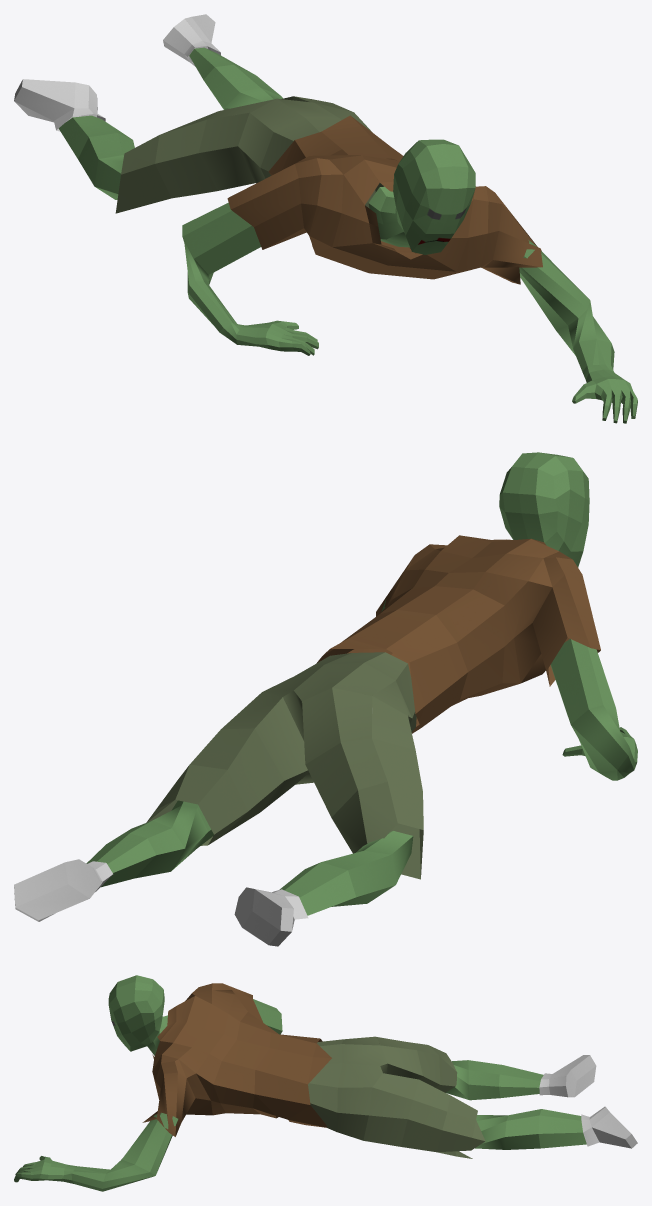
File: ZombieCrawl(123).obj
The picture shows the model from 3 angles, top to bottom: view 1: azimuth 30°, elevation 25°; view 2: azimuth 150°, elevation 25°; view 3: azimuth 270°, elevation 25°; orthographic projection. The views are drawn at different scales.
Visible parts, largest first — view 1: Object001; view 2: Object001; view 3: Object001.
Part boxes in pixels (x1=…): Object001: x1=14, y1=14, x2=637, y2=423; Object001: x1=14, y1=452, x2=637, y2=946; Object001: x1=14, y1=975, x2=637, y2=1191.
Bounding box in the file's own units: 28.69 × 20.9 × 70.05.
